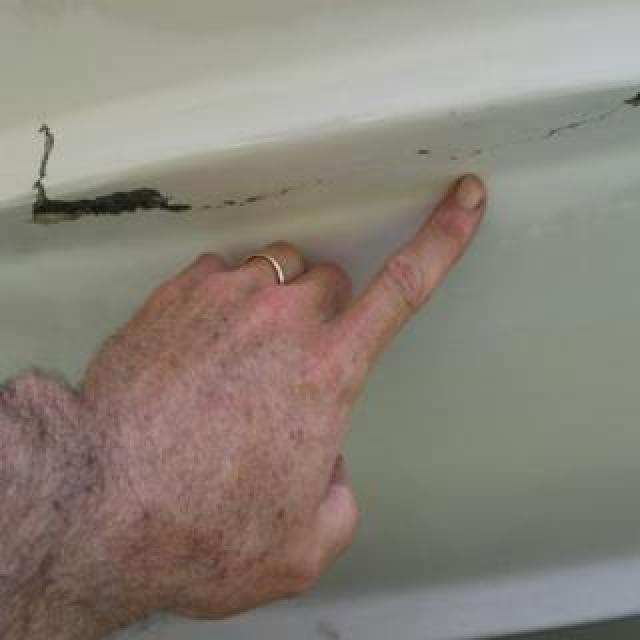crack: (353, 90, 640, 166), (31, 121, 195, 229), (193, 172, 379, 214)
